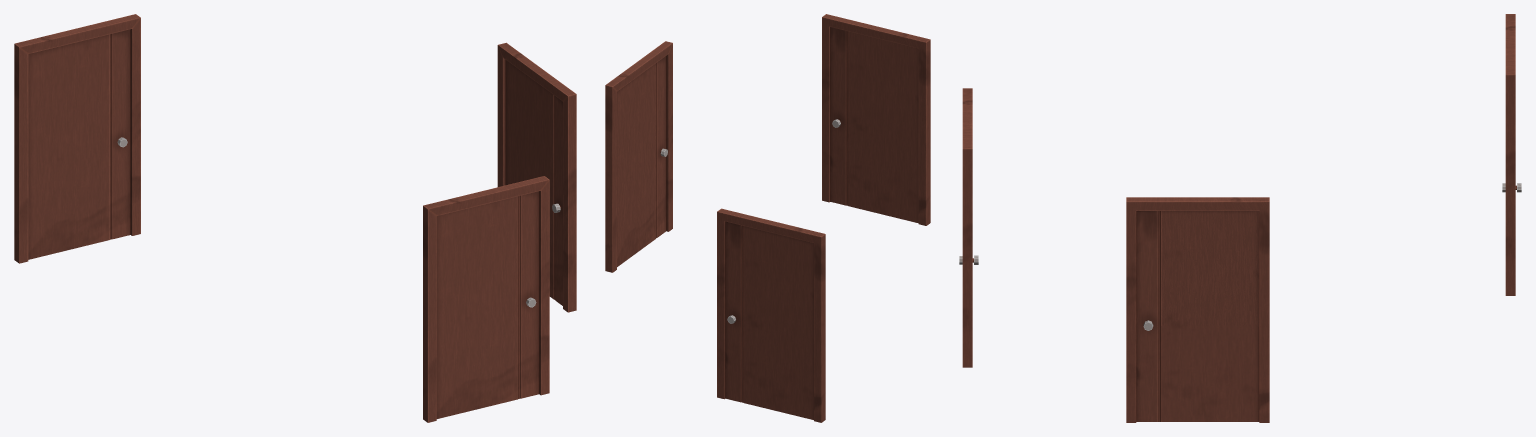
Rendered from RoomDoor.fbx.
3 views of the same model, side by side, from view 1: azimuth 30°, elevation 25°; view 2: azimuth 150°, elevation 25°; view 3: azimuth 270°, elevation 25° (orthographic). The views are drawn at different scales.
Parts seen in each view (by area): view 1: Roomdoor1, Roomdoor2, Roomdoor3, Roomdoor_1, Roomdoor_2, Roomdoor_3; view 2: Roomdoor1, Roomdoor2, Roomdoor3, Roomdoor_2, Roomdoor_1, Roomdoor_3; view 3: Roomdoor3, Roomdoor_3, Roomdoor_1, Roomdoor_2.
Part boxes in pixels (box(x1,y1,x2,y2)): Roomdoor1: box(28, 29, 130, 259); Roomdoor2: box(436, 191, 539, 418); Roomdoor3: box(505, 60, 562, 305); Roomdoor_1: box(14, 14, 140, 263); Roomdoor_2: box(423, 176, 549, 422); Roomdoor_3: box(497, 42, 576, 312); Roomdoor1: box(725, 221, 813, 419); Roomdoor2: box(830, 27, 918, 223); Roomdoor3: box(617, 56, 667, 266); Roomdoor_2: box(822, 14, 930, 225); Roomdoor_1: box(717, 208, 825, 422); Roomdoor_3: box(605, 41, 672, 272); Roomdoor3: box(1136, 211, 1259, 421); Roomdoor_3: box(1126, 197, 1269, 422); Roomdoor_1: box(1505, 14, 1515, 295); Roomdoor_2: box(962, 88, 972, 367).
Bounding box in the file's own units: 465 × 257 × 588.
